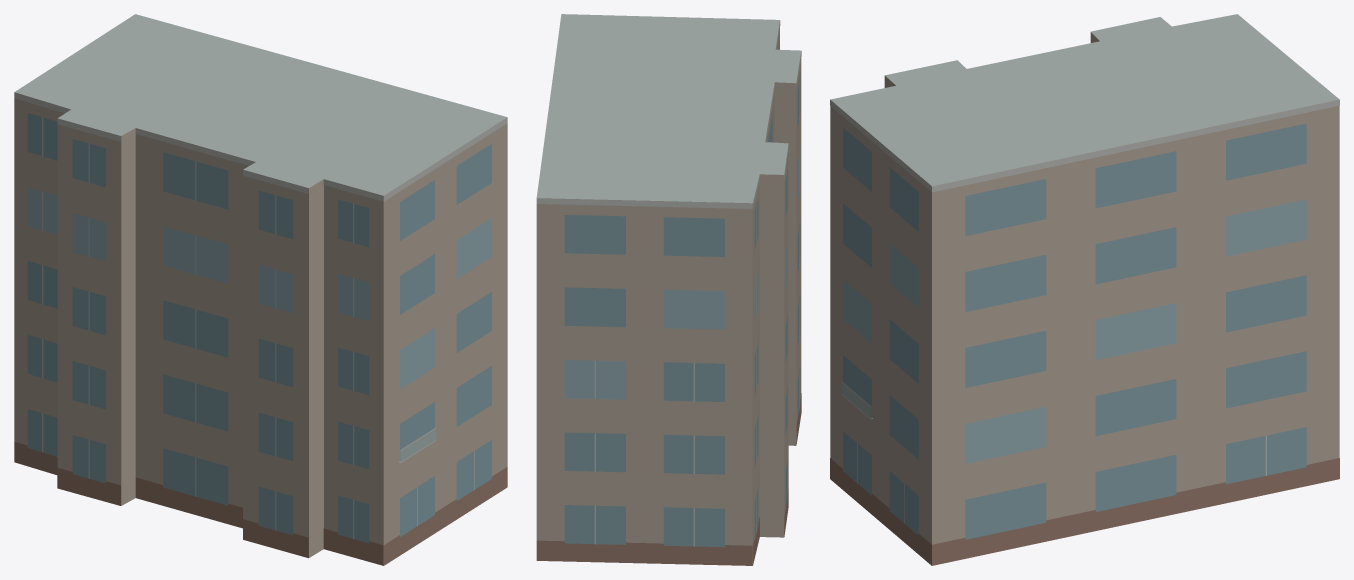
The model's file is survey-upis-32958056.glb.
3 renders of one model, left to right at view 1: azimuth 30°, elevation 25°; view 2: azimuth 150°, elevation 25°; view 3: azimuth 270°, elevation 25°, orthographic. The views are drawn at different scales.
Visible parts, largest first — view 1: survey-upis-32958056.tmp; view 2: survey-upis-32958056.tmp; view 3: survey-upis-32958056.tmp.
Boxes of the visible parts, left/top/right/bottom form: survey-upis-32958056.tmp: left=14, top=14, right=507, bottom=565; survey-upis-32958056.tmp: left=536, top=14, right=801, bottom=565; survey-upis-32958056.tmp: left=830, top=14, right=1339, bottom=565.
Bounding box in the file's own units: 14.86 × 15.25 × 18.57.
